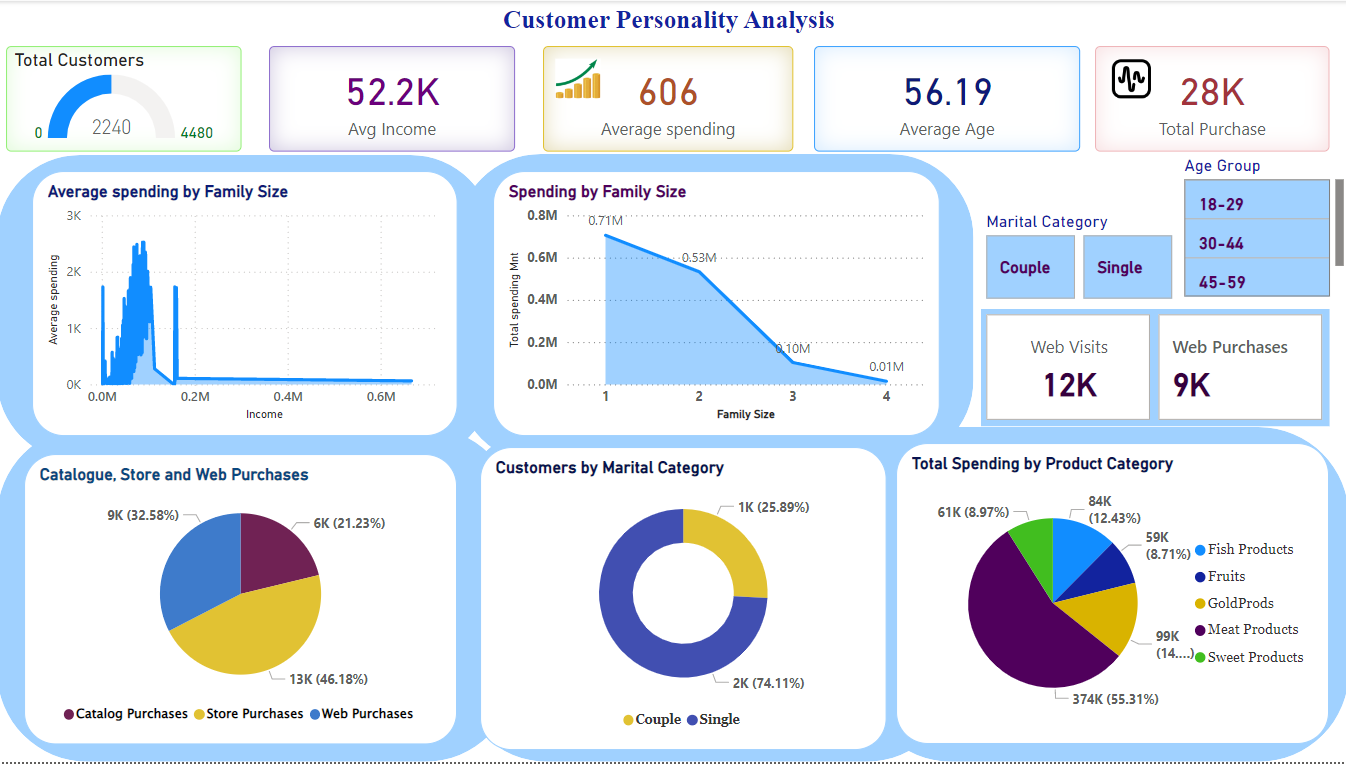

Layout of this report page (visuals, bound fields, positions):
{"tool":"powerbi","page":{"name":"Dashboard","canvas":[1280,720],"ordinal":0},"visuals":[{"type":"shape","box":[818.2,402.9,461.8,317.2],"z":1000},{"type":"shape","box":[0,402.9,490.7,317.2],"z":2000},{"type":"shape","box":[0,145.7,470.1,290.3],"z":3000},{"type":"shape","box":[436,402.9,473.2,317.2],"z":4000},{"type":"shape","box":[436,144.6,488.7,293.4],"z":5000},{"type":"card","fields":{"Values":["marketing_campaign.Avg Income"]},"box":[257.2,42.4,233.5,100.2],"z":6000},{"type":"card","fields":{"Values":["marketing_campaign.Average spending"]},"box":[516.5,42.4,236.6,100.2],"z":7000},{"type":"card","fields":{"Values":["marketing_campaign.Average Age"]},"box":[773.8,42.4,252.1,100.2],"z":8000},{"type":"donutChart","title":"Customers by Marital Category","fields":{"Y":["marketing_campaign.Total Customers"],"Series":["marketing_campaign.Marital Category"]},"box":[457.7,422.5,385.3,287.2],"z":9000},{"type":"advancedSlicerVisual","title":" Age Group","fields":{"Values":["marketing_campaign.Age Group"]},"box":[1118.8,145.7,161.2,141.5],"z":10000},{"type":"areaChart","title":"Average spending by Family Size","fields":{"Category":["marketing_campaign.Income"],"Y":["marketing_campaign.Average spending"]},"box":[33.1,161.2,402.9,251],"z":11000},{"type":"pieChart","title":"Catalogue, Store and Web Purchases","fields":{"Y":["Sum(marketing_campaign.NumCatalogPurchases)","Sum(marketing_campaign.NumStorePurchases)","Sum(marketing_campaign.NumWebPurchases)"]},"box":[25.8,428.7,410.1,274.8],"z":12000},{"type":"areaChart","title":"Spending by Family Size","fields":{"Category":["marketing_campaign.Family Size"],"Y":["marketing_campaign.Total spending Mnt"]},"box":[470.1,161.2,422.5,251],"z":13000},{"type":"pieChart","title":"Total Spending by Product Category","fields":{"Y":["Sum(marketing_campaign.MntFishProducts)","Sum(marketing_campaign.MntFruits)","Sum(marketing_campaign.MntGoldProds)","Sum(marketing_campaign.MntMeatProducts)","Sum(marketing_campaign.MntSweetProducts)"]},"box":[851.3,418.4,410.1,285.1],"z":14000},{"type":"advancedSlicerVisual","fields":{"Values":["marketing_campaign.Marital Category"]},"box":[931.8,198.4,187,88.8],"z":15000},{"type":"cardVisual","fields":{"Data":["Sum(marketing_campaign.NumWebVisitsMonth)","Sum(marketing_campaign.NumWebPurchases)"]},"box":[931.8,291.3,329.6,110.5],"z":16000},{"type":"gauge","fields":{"Y":["marketing_campaign.Total Customers"]},"box":[8.3,42.4,223.1,100.2],"z":17000},{"type":"card","fields":{"Values":["marketing_campaign.Total Purchase"]},"box":[1039.3,42.4,222.1,100.2],"z":18000},{"type":"textbox","box":[245.9,0,780,42.4],"z":19000}]}

Visuals, with their boxes in screenshot pixels (x1, y1, x2, y2), scaled from the page's 1280x720 canvas onto the 1346x766 screenshot:
shape: <bbox>860, 429, 1345, 765</bbox>
shape: <bbox>0, 429, 516, 765</bbox>
shape: <bbox>0, 155, 494, 464</bbox>
shape: <bbox>458, 429, 956, 765</bbox>
shape: <bbox>458, 154, 972, 466</bbox>
card - marketing_campaign.Avg Income: <bbox>270, 45, 516, 152</bbox>
card - marketing_campaign.Average spending: <bbox>543, 45, 792, 152</bbox>
card - marketing_campaign.Average Age: <bbox>814, 45, 1079, 152</bbox>
"Customers by Marital Category" donutChart: <bbox>481, 449, 886, 755</bbox>
" Age Group" advancedSlicerVisual: <bbox>1176, 155, 1345, 306</bbox>
"Average spending by Family Size" areaChart: <bbox>35, 171, 458, 439</bbox>
"Catalogue, Store and Web Purchases" pieChart: <bbox>27, 456, 458, 748</bbox>
"Spending by Family Size" areaChart: <bbox>494, 171, 939, 439</bbox>
"Total Spending by Product Category" pieChart: <bbox>895, 445, 1326, 748</bbox>
advancedSlicerVisual - marketing_campaign.Marital Category: <bbox>980, 211, 1176, 306</bbox>
cardVisual - Sum(marketing_campaign.NumWebVisitsMonth) x Sum(marketing_campaign.NumWebPurchases): <bbox>980, 310, 1326, 427</bbox>
gauge - marketing_campaign.Total Customers: <bbox>9, 45, 243, 152</bbox>
card - marketing_campaign.Total Purchase: <bbox>1093, 45, 1326, 152</bbox>
textbox: <bbox>259, 0, 1079, 45</bbox>
